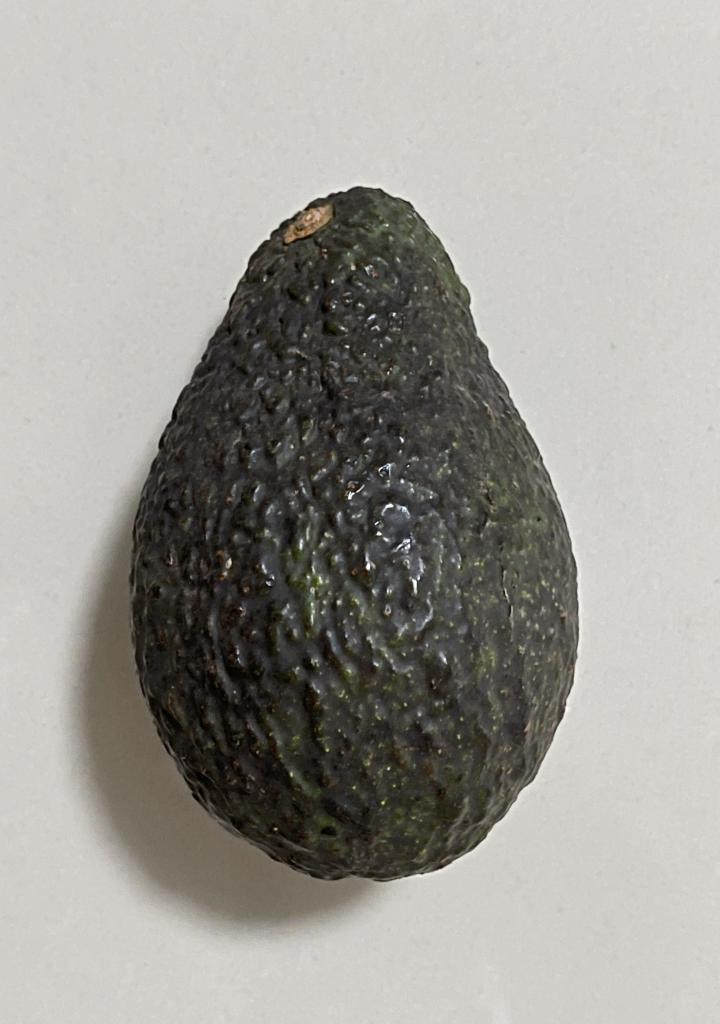Level1: (119, 158, 599, 909)
